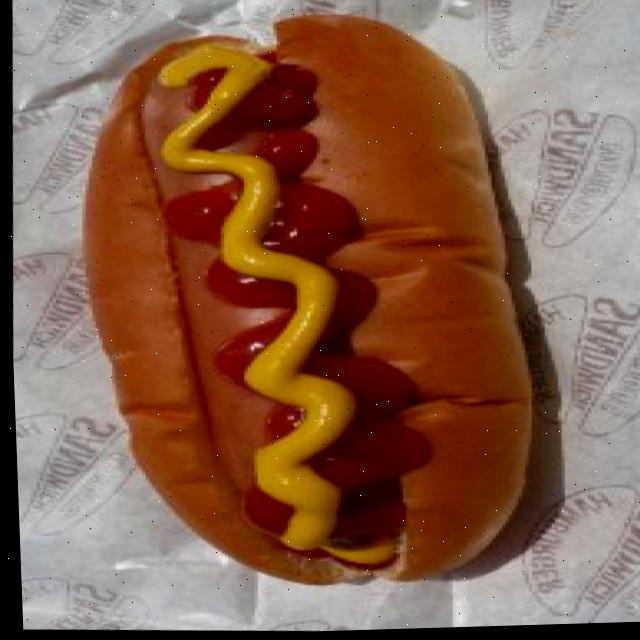汉堡快餐: (47, 0, 569, 610)
